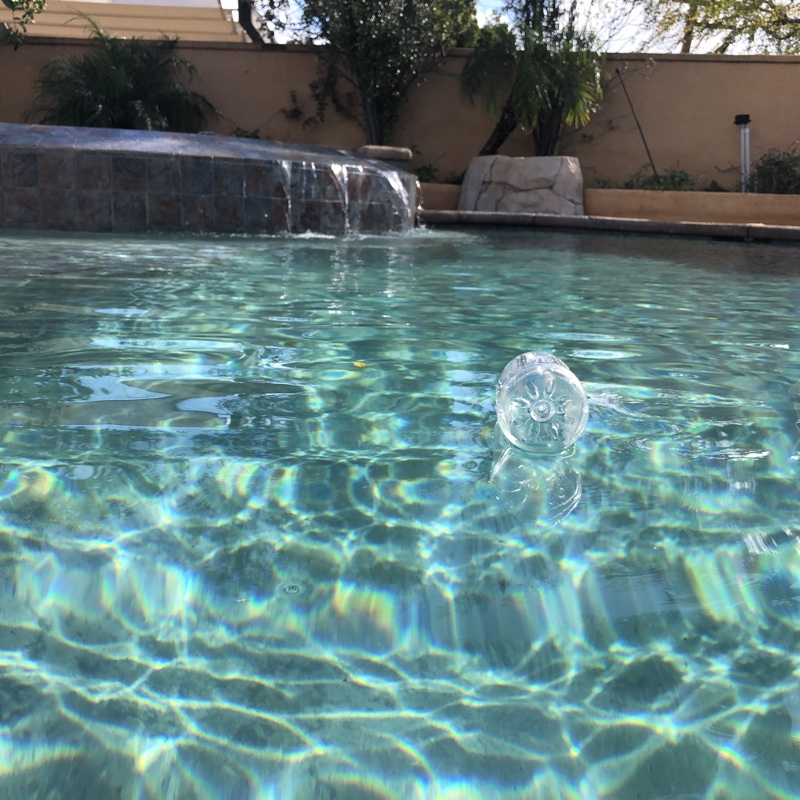Plastic Bottle: (490, 347, 593, 460)
